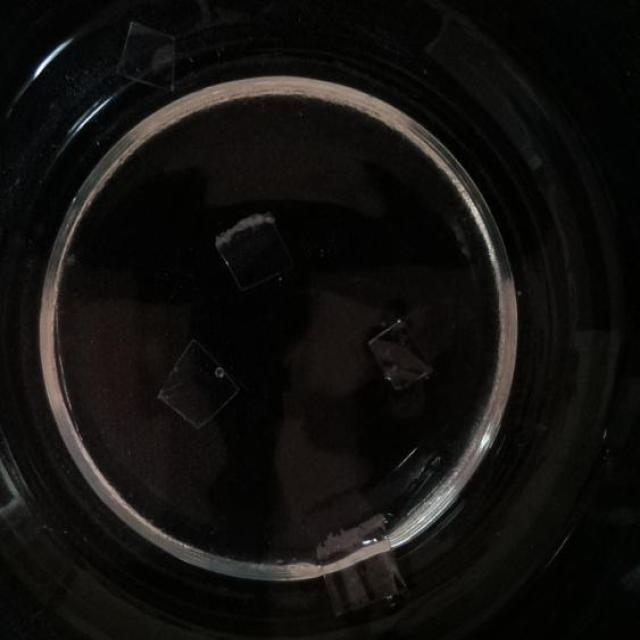fiber: (312, 511, 409, 620), (151, 336, 242, 433), (209, 210, 297, 290), (364, 305, 435, 392), (114, 20, 180, 93)
